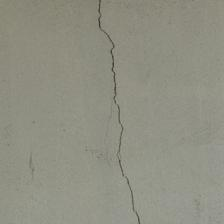Crack: (0, 0, 91, 79), (31, 15, 94, 127)
